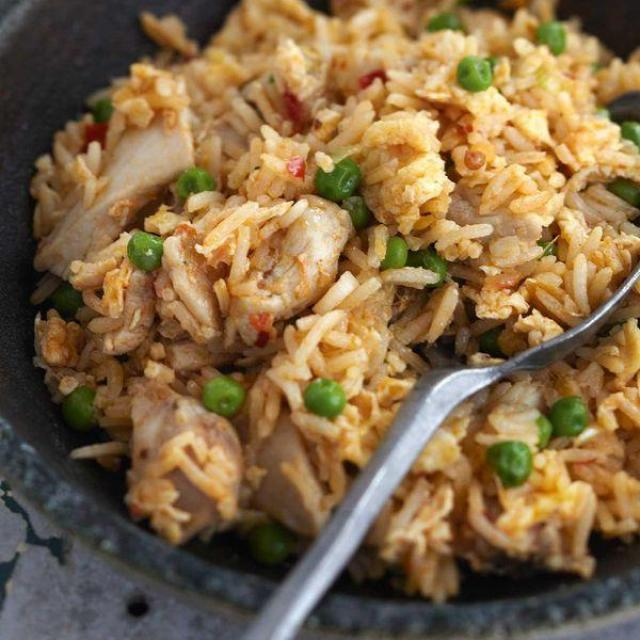Nasi Goreng: (28, 0, 639, 597)
